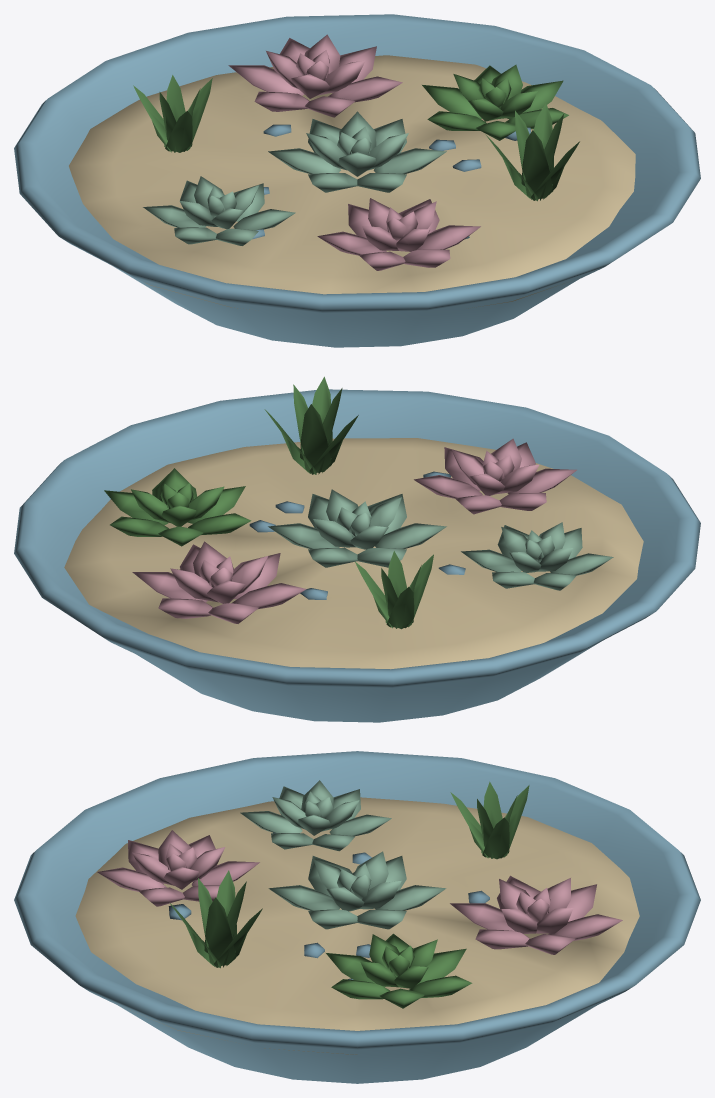
File: succulents.glb
The picture shows the model from 3 angles, top to bottom: view 1: azimuth 30°, elevation 25°; view 2: azimuth 150°, elevation 25°; view 3: azimuth 270°, elevation 25°; orthographic projection.
Parts seen in each view (by area): view 1: succulents; view 2: succulents; view 3: succulents.
Part boxes in pixels (x1,y1,x2,y2): succulents: (14,14,700,347); succulents: (14,376,700,722); succulents: (14,751,700,1083).
Size of the model in its own units: 0.62 by 0.17 by 0.62.
